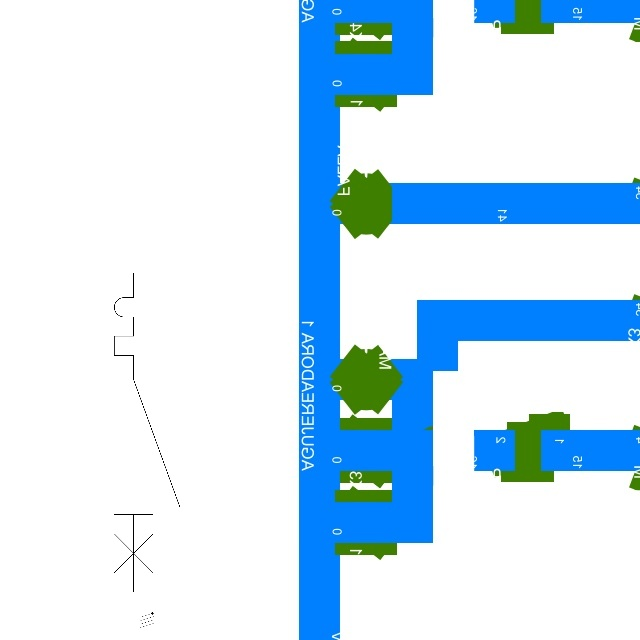interruptor_termomagnetico: (106, 265, 188, 600)
